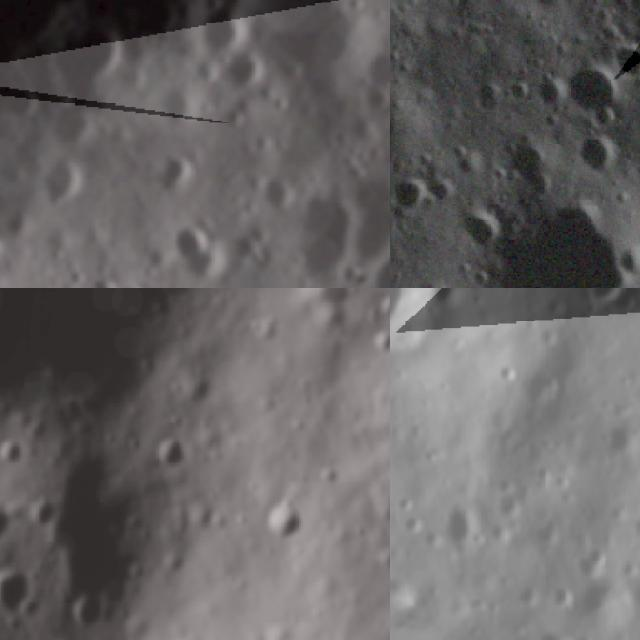crater: (0, 288, 263, 431), (474, 196, 640, 288), (263, 177, 377, 288), (42, 9, 136, 104), (390, 288, 471, 385), (148, 201, 237, 288), (418, 494, 498, 572), (182, 0, 260, 74), (142, 75, 217, 142), (212, 44, 282, 113), (556, 60, 626, 124), (36, 94, 103, 160), (24, 151, 89, 219), (499, 133, 556, 204), (145, 146, 203, 206), (348, 28, 390, 104), (247, 169, 301, 225), (530, 565, 584, 619), (563, 537, 616, 590), (452, 198, 505, 250), (518, 514, 570, 567), (415, 288, 480, 329), (64, 588, 117, 637), (261, 499, 313, 548), (112, 59, 161, 108), (390, 557, 432, 614), (486, 487, 534, 534), (573, 288, 637, 322), (571, 133, 624, 174), (390, 172, 434, 221), (0, 570, 39, 623), (502, 576, 546, 619), (351, 79, 390, 125), (606, 35, 640, 86), (466, 74, 505, 116), (486, 354, 524, 393), (0, 217, 22, 282), (523, 616, 581, 640), (76, 266, 128, 288), (505, 72, 532, 113), (624, 530, 640, 598), (332, 256, 361, 288), (0, 499, 16, 551), (103, 633, 154, 640), (388, 104, 390, 161)
